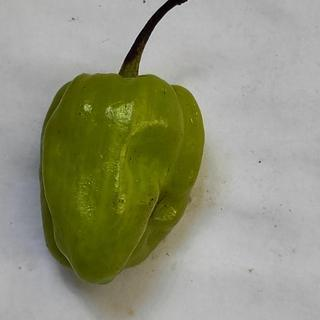Grade-A: (31, 70, 208, 286)
